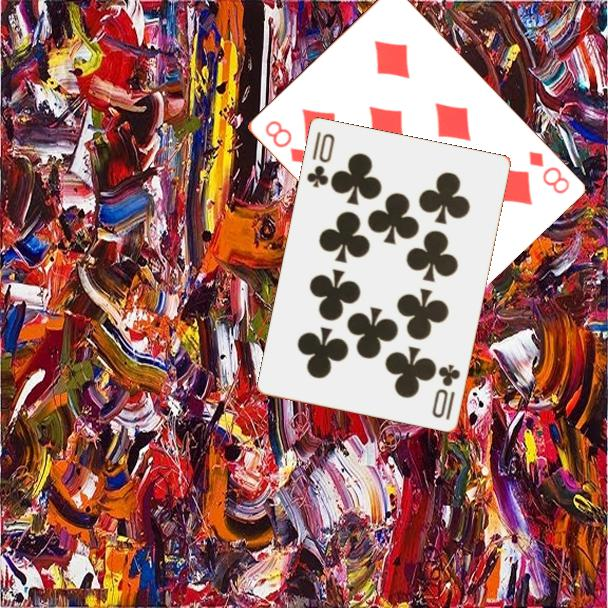c10: (303, 129, 338, 191), (429, 361, 463, 423)
d08: (524, 147, 572, 197), (261, 117, 308, 166)
